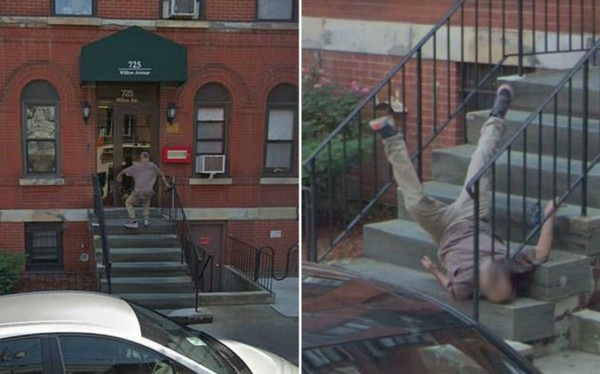people: (374, 102, 567, 298), (117, 153, 166, 232)
